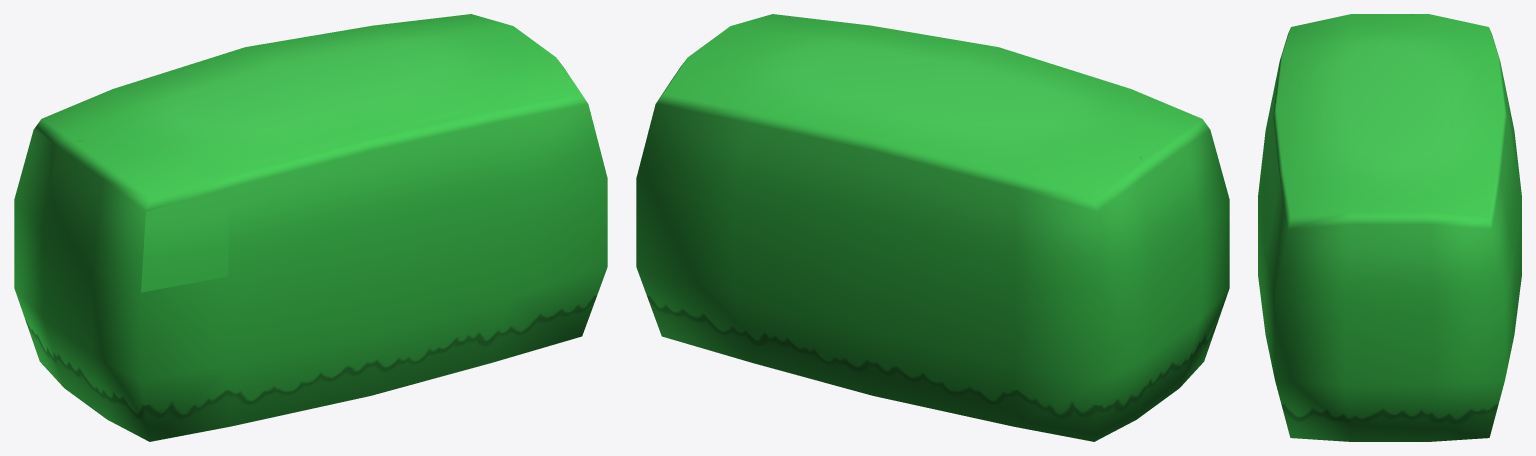
File: city_hedge.fbx
3 views of the same model, side by side, from view 1: azimuth 30°, elevation 25°; view 2: azimuth 150°, elevation 25°; view 3: azimuth 270°, elevation 25° (orthographic). The views are drawn at different scales.
Parts seen in each view (by area): view 1: city:polySurface302; view 2: city:polySurface302; view 3: city:polySurface302.
Part boxes in pixels (left/top/right/bottom): city:polySurface302: left=14, top=14, right=607, bottom=441; city:polySurface302: left=636, top=14, right=1229, bottom=441; city:polySurface302: left=1258, top=14, right=1521, bottom=441.
Size of the model in its own units: 1.64 by 0.8607 by 0.8504.
